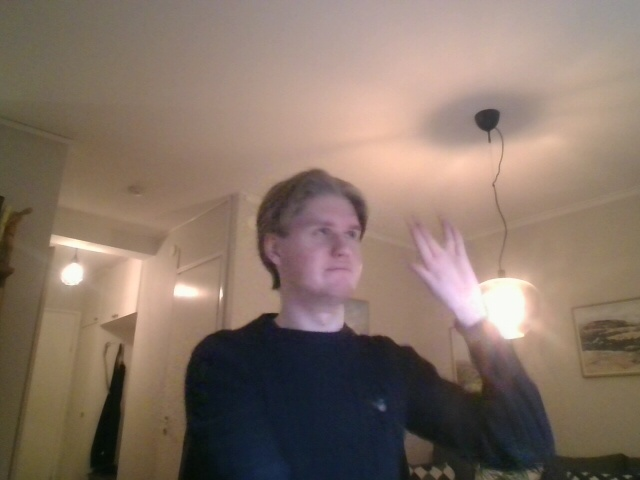LiveLong: (406, 214, 484, 311)
